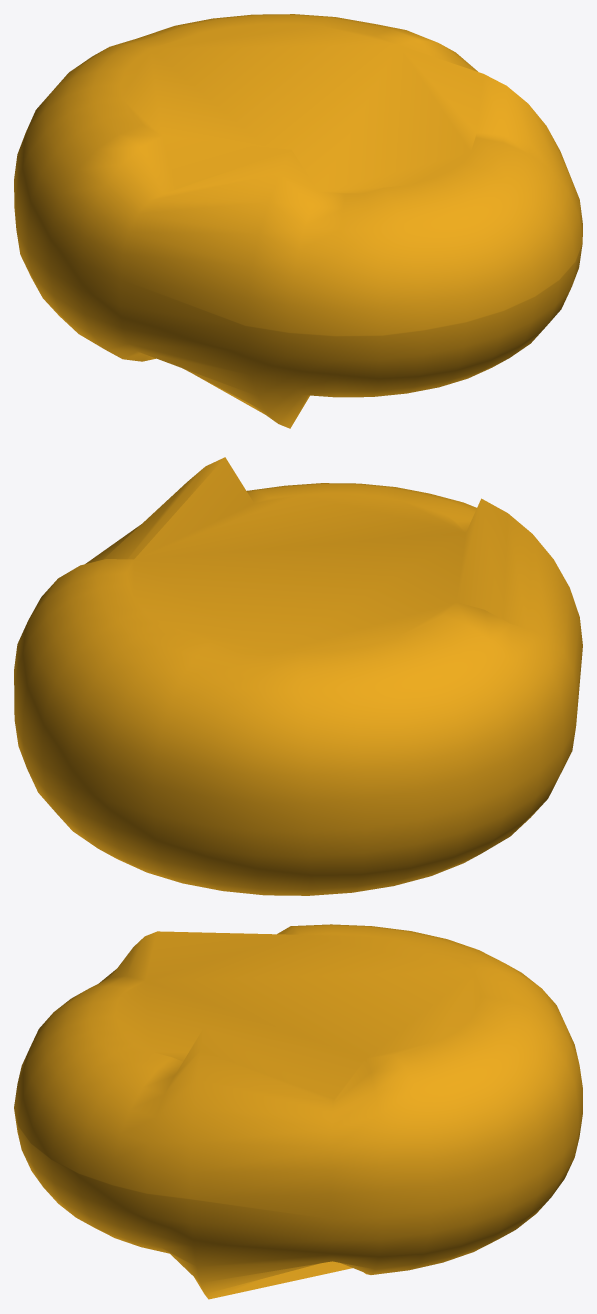
3 views of the same model, one above another, from view 1: azimuth 30°, elevation 25°; view 2: azimuth 150°, elevation 25°; view 3: azimuth 270°, elevation 25° (orthographic). The views are drawn at different scales.
Visible parts, largest first — view 1: BY; view 2: BY; view 3: BY.
Boxes of the visible parts, x1,y1,x2,y2 form: BY: (14,14,582,428); BY: (14,457,582,895); BY: (14,924,582,1299).
Bounding box in the file's own units: 0.8822 × 0.5307 × 1.
